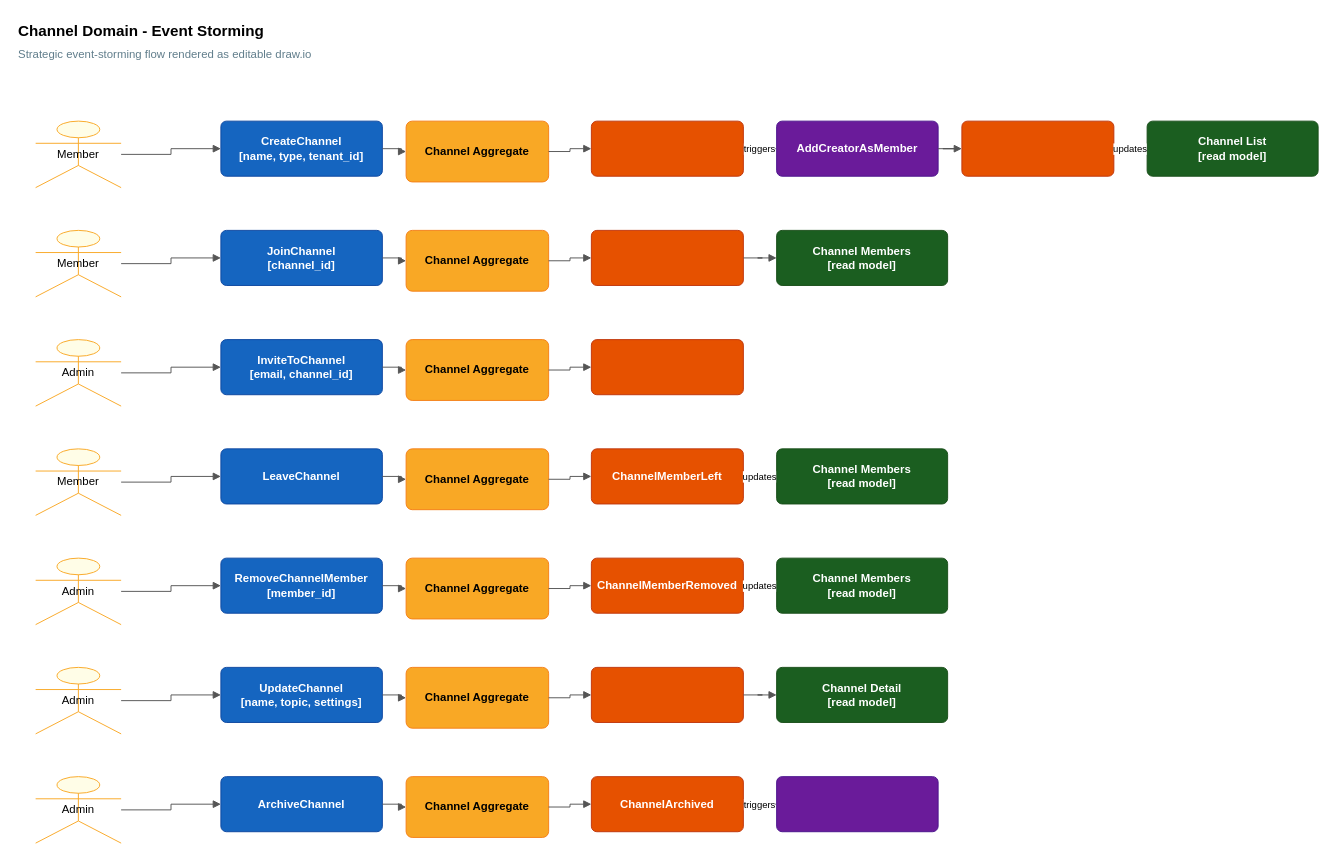
Some shapes in this 1335 by 860 pixel diagram are drawn without their labels. The shapes that lost their labels are listed below. From the top down, each one's centre as x and y in pixels, then its label:
At (x=666, y=148): "ChannelCreated".
At (x=1037, y=148): "ChannelMemberAdded (creator → admin)".
At (x=666, y=257): "ChannelMemberAdded".
At (x=666, y=367): "ChannelInvitationSent".
At (x=666, y=694): "ChannelUpdated".
At (x=857, y=804): "NotifyChannelMembers".
